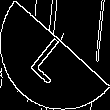L_NE: (28, 26, 82, 84)
